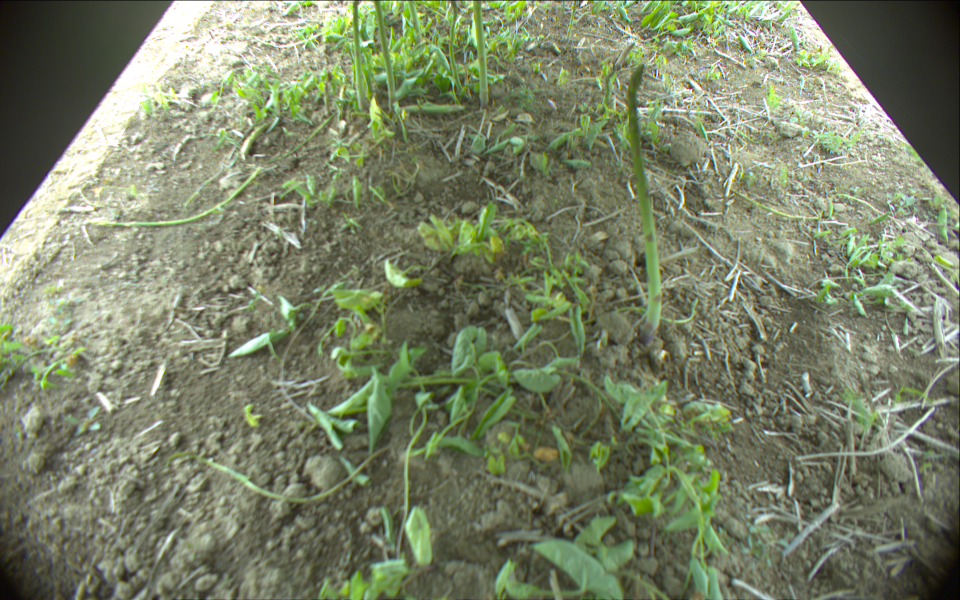aspa: (626, 64, 663, 345), (94, 167, 263, 226), (371, 1, 397, 113), (350, 1, 370, 109), (472, 1, 489, 108), (448, 1, 463, 90), (240, 119, 273, 159), (401, 104, 465, 116), (406, 1, 421, 39), (567, 1, 577, 39)
